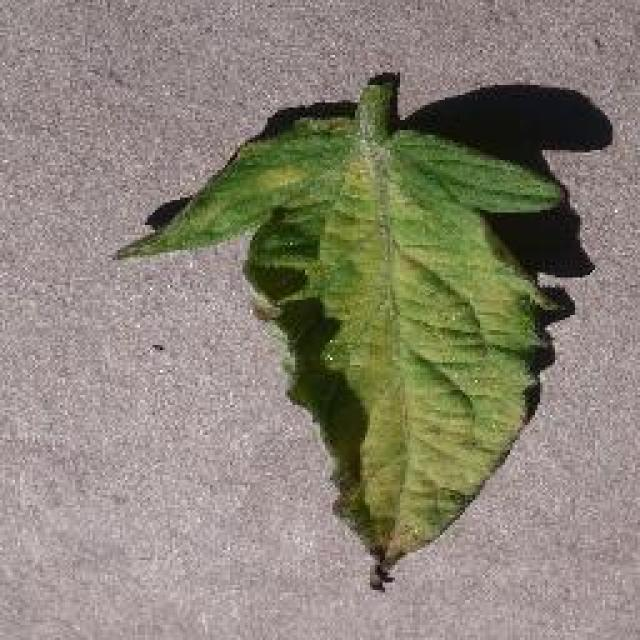Tomato___Leaf_Mold: (118, 75, 568, 585)
